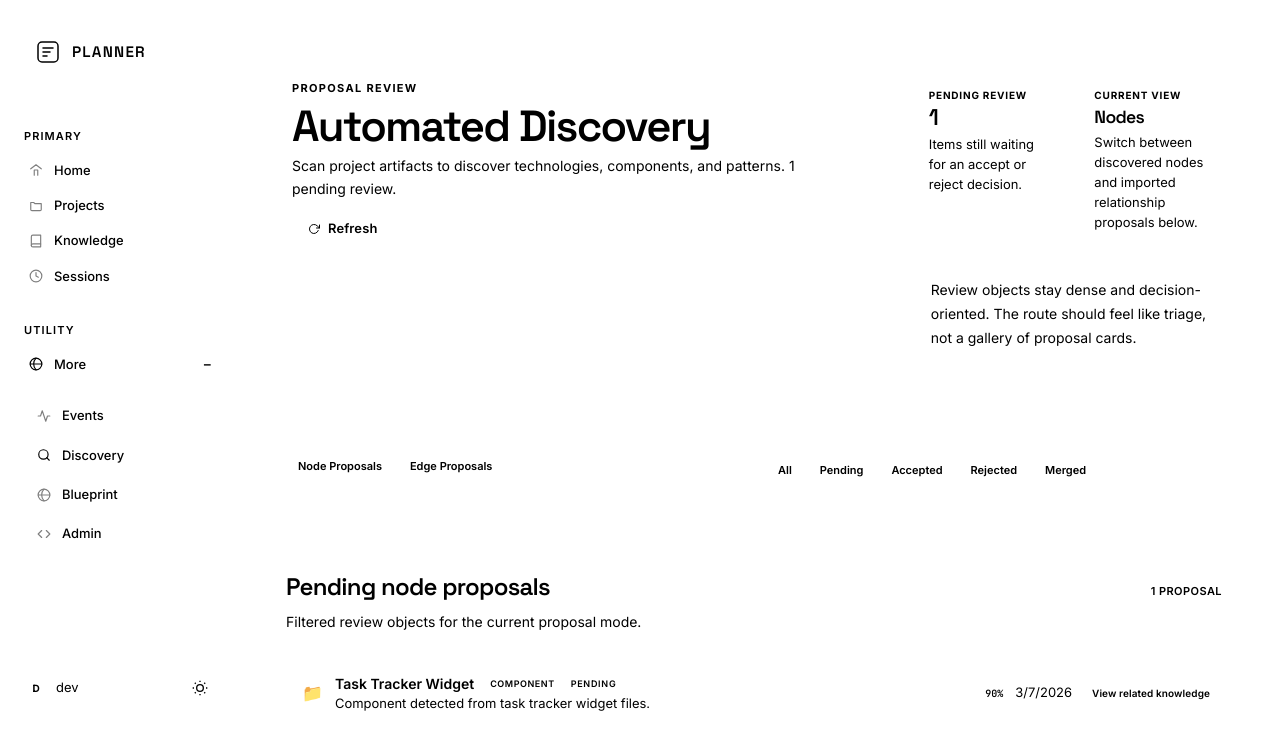
it: DiscoveryPage Phase 4 contextual links › groups pending and reviewed proposals when all statuses are visible
Step 1. Click the button "All" → (785, 470), box [766,458,804,482]
(page scrolled)
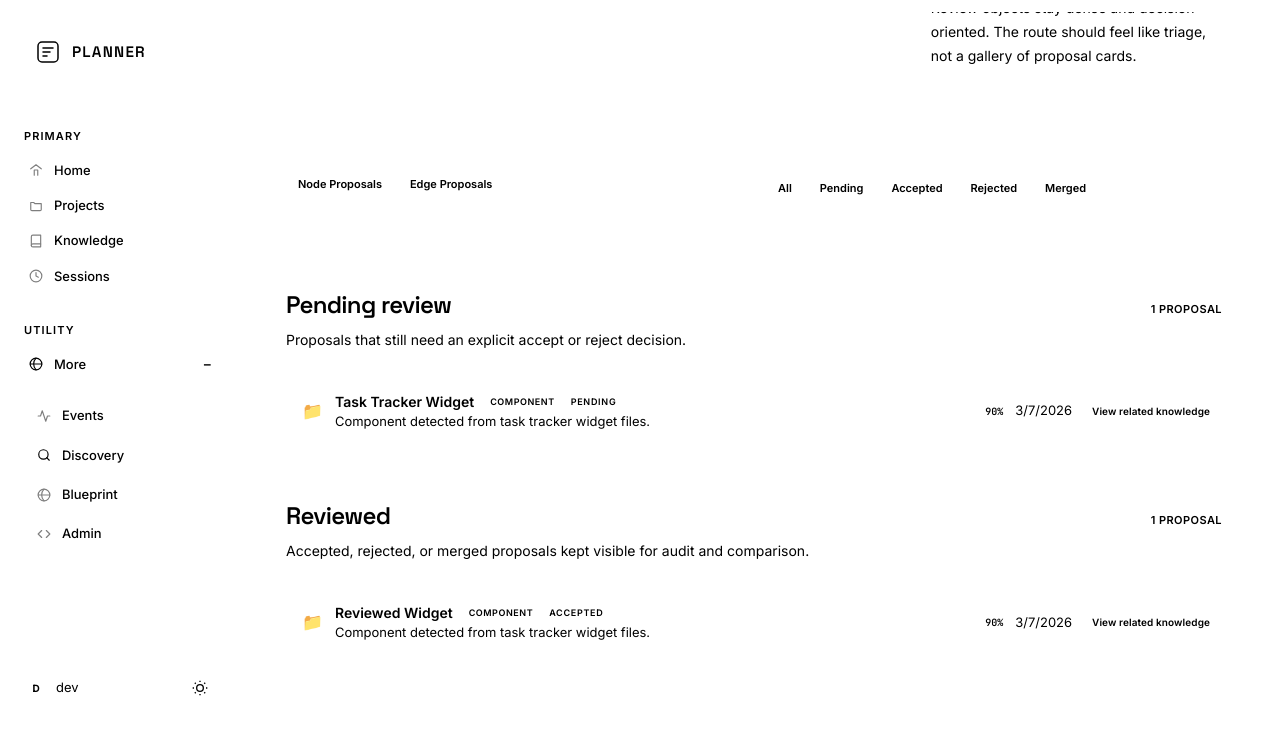
Expected: the heading "Pending review" is shown, [286,292,451,318]
Expected: the heading "Reviewed" is shown, [286,503,390,529]
Expected: the text "Reviewed Widget" is shown, [335,602,453,623]
